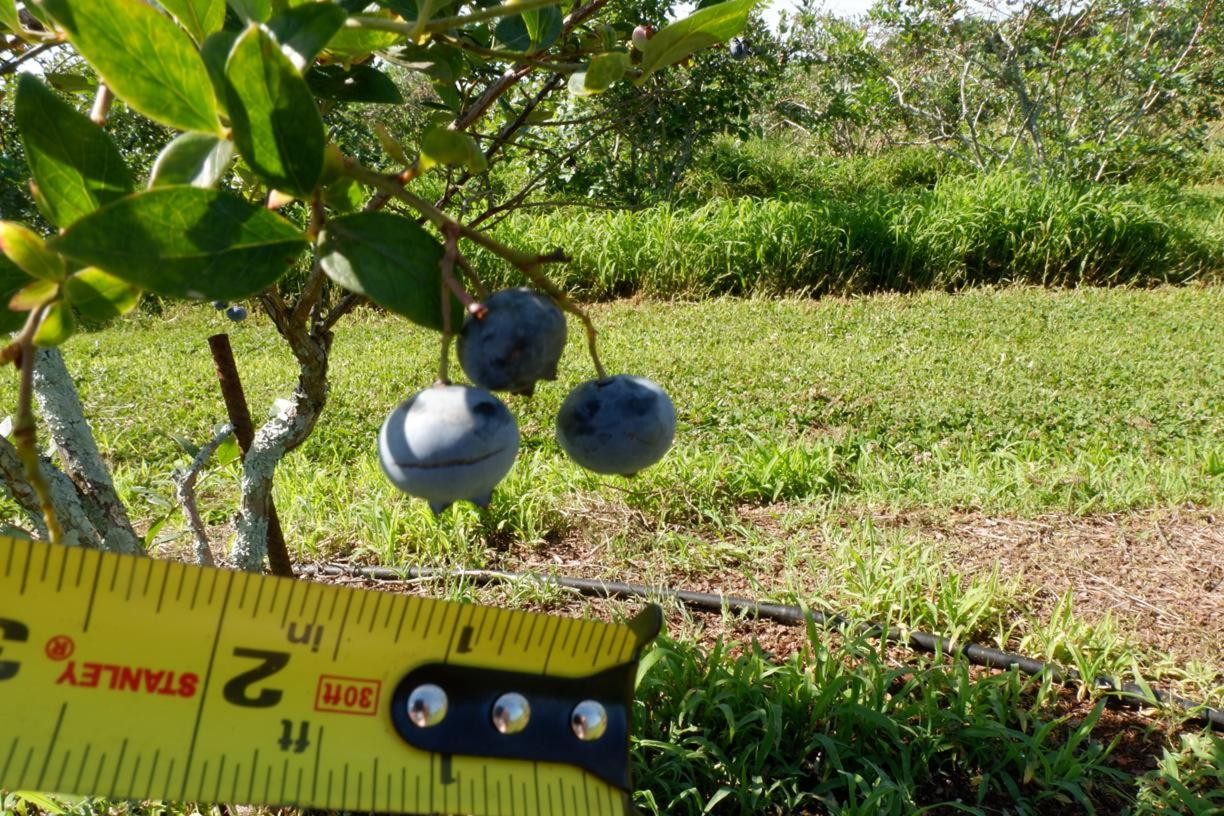Mature: (377, 383, 520, 515), (555, 373, 675, 475), (457, 288, 567, 398)
